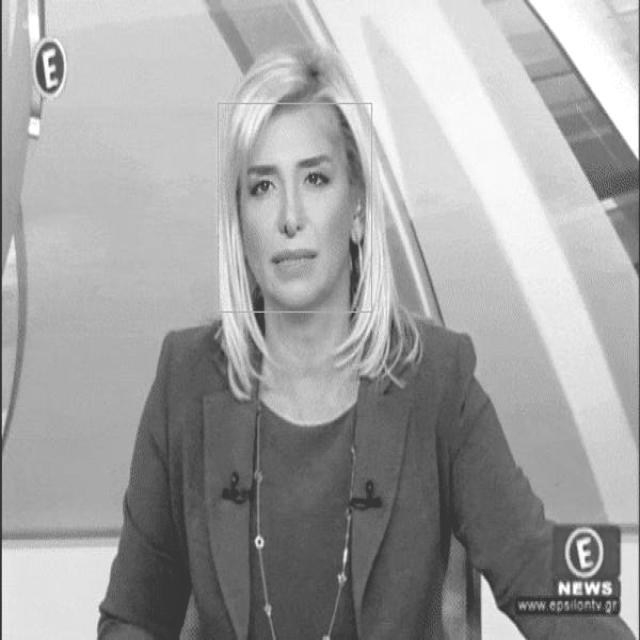fake: (219, 102, 373, 312)
